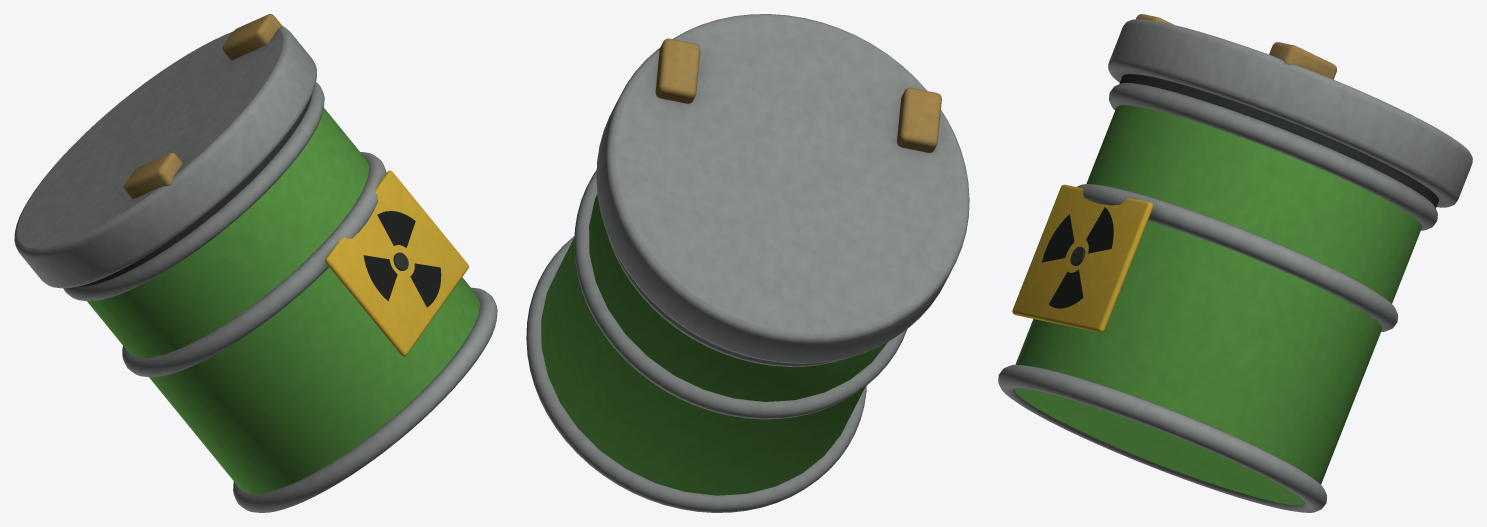
3 views of the same model, side by side, from view 1: azimuth 30°, elevation 25°; view 2: azimuth 150°, elevation 25°; view 3: azimuth 270°, elevation 25° (orthographic). The views are drawn at different scales.
Visible parts, largest first — view 1: Waste containment drum; view 2: Waste containment drum; view 3: Waste containment drum.
Part boxes in pixels (x1,y1,x2,y2): Waste containment drum: (14,14,497,512); Waste containment drum: (526,14,969,512); Waste containment drum: (998,14,1472,512).
Size of the model in its own units: 1.28 by 1.35 by 1.21.
Materials: 1 (1 with a texture image).
